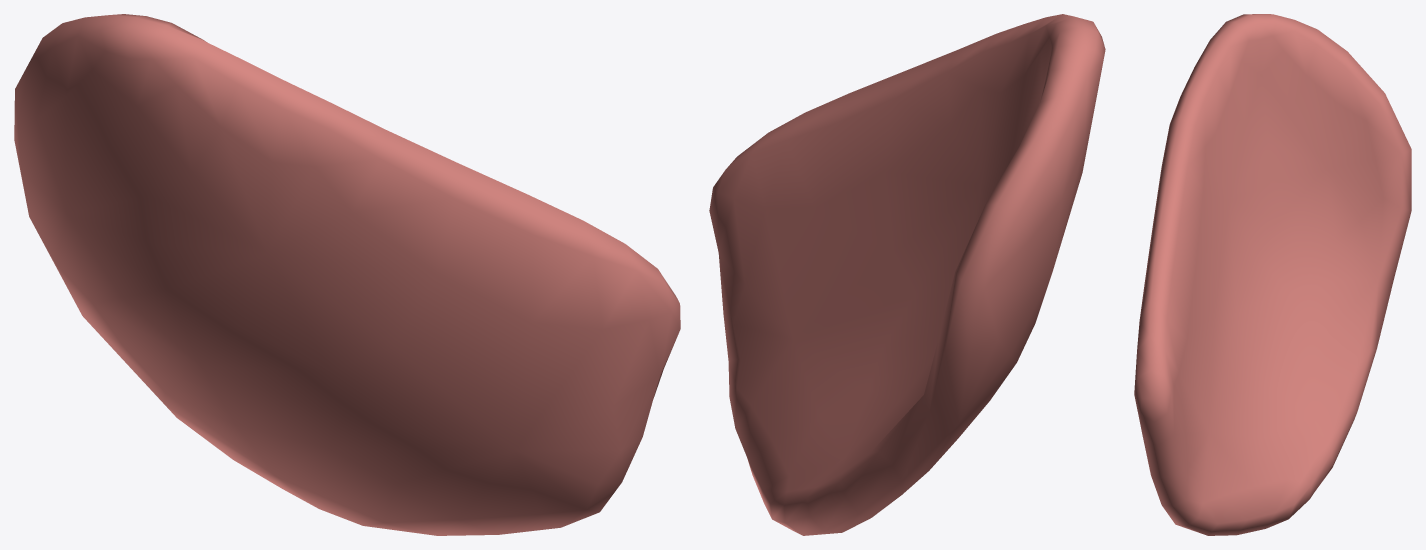
The picture shows the model from 3 angles, left to right: view 1: azimuth 30°, elevation 25°; view 2: azimuth 150°, elevation 25°; view 3: azimuth 270°, elevation 25°; orthographic projection. The views are drawn at different scales.
Visible parts, largest first — view 1: ZA_27b55b603b5405d5; view 2: ZA_27b55b603b5405d5; view 3: ZA_27b55b603b5405d5.
Boxes of the visible parts, bbox=[...] form: ZA_27b55b603b5405d5: bbox=[14, 14, 680, 535]; ZA_27b55b603b5405d5: bbox=[709, 14, 1105, 535]; ZA_27b55b603b5405d5: bbox=[1134, 14, 1411, 535].
Bounding box in the file's own units: 0.00467 × 0.00526 × 0.00324.
